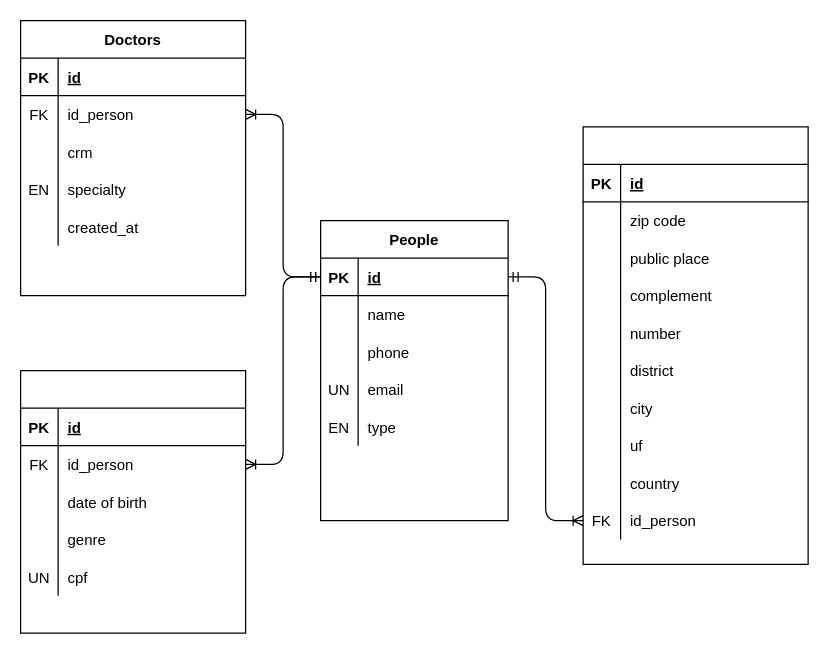
Image size: 829x654. Some labels were removed from this diagram. Here are the shapes that lost their labels. From the top down, the box of each, then its label:
(582, 126, 808, 564): Address
(19, 369, 246, 633): Physical People
